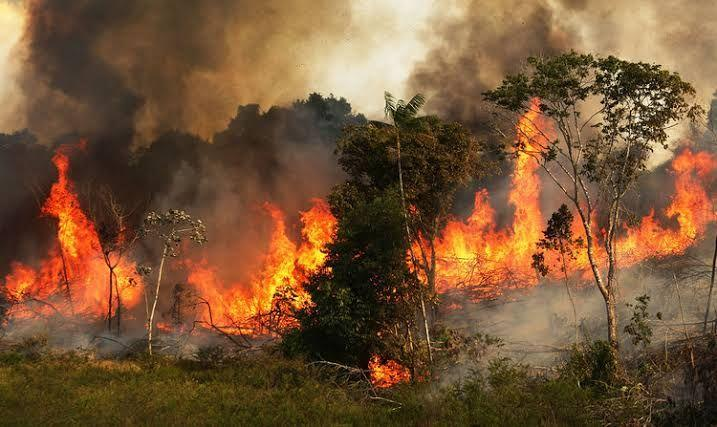fire: (428, 86, 717, 391), (195, 155, 436, 399), (4, 138, 184, 371), (331, 296, 453, 419)
